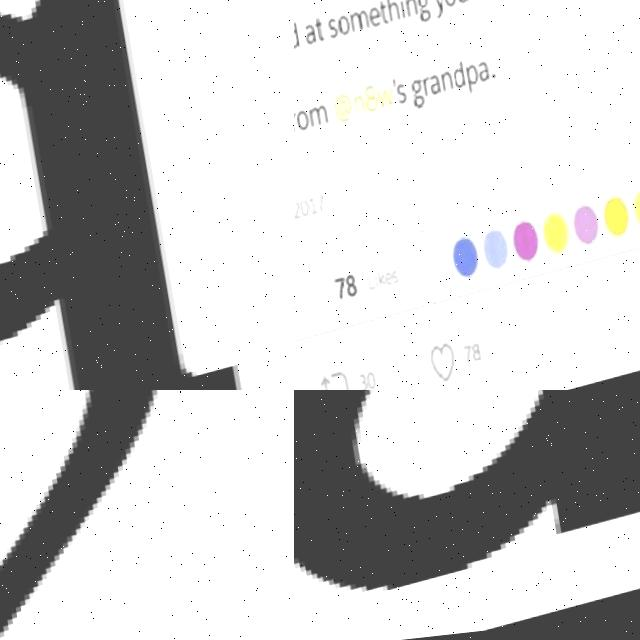0: (297, 200, 308, 221), (363, 375, 376, 390)
1: (306, 199, 317, 219)
2: (0, 390, 229, 640), (294, 203, 300, 223)
3: (355, 376, 367, 390)
7: (333, 280, 345, 304), (313, 196, 325, 217), (460, 350, 472, 371)
8: (362, 87, 377, 117), (342, 278, 356, 303), (469, 348, 480, 369)
A: (294, 390, 640, 637)
Q: (0, 0, 247, 390)
